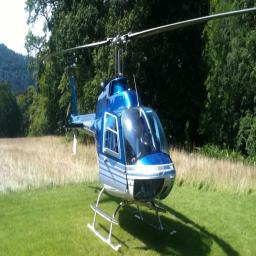helicopter: (48, 13, 239, 253)
